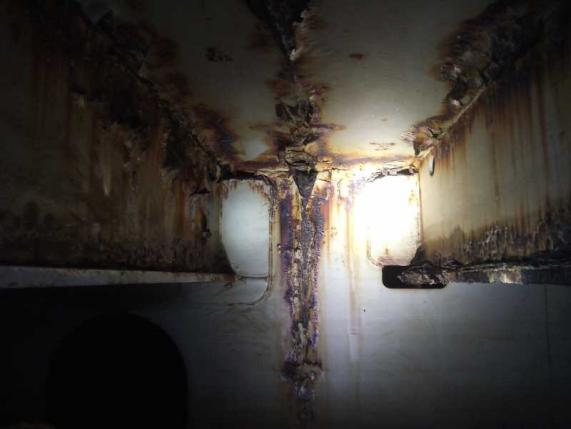corrosion: (15, 0, 228, 191), (3, 129, 235, 285), (260, 152, 347, 429), (385, 221, 571, 290), (428, 0, 570, 83), (485, 98, 571, 208), (252, 71, 344, 166), (242, 0, 332, 75), (405, 95, 468, 162), (348, 161, 424, 182)
